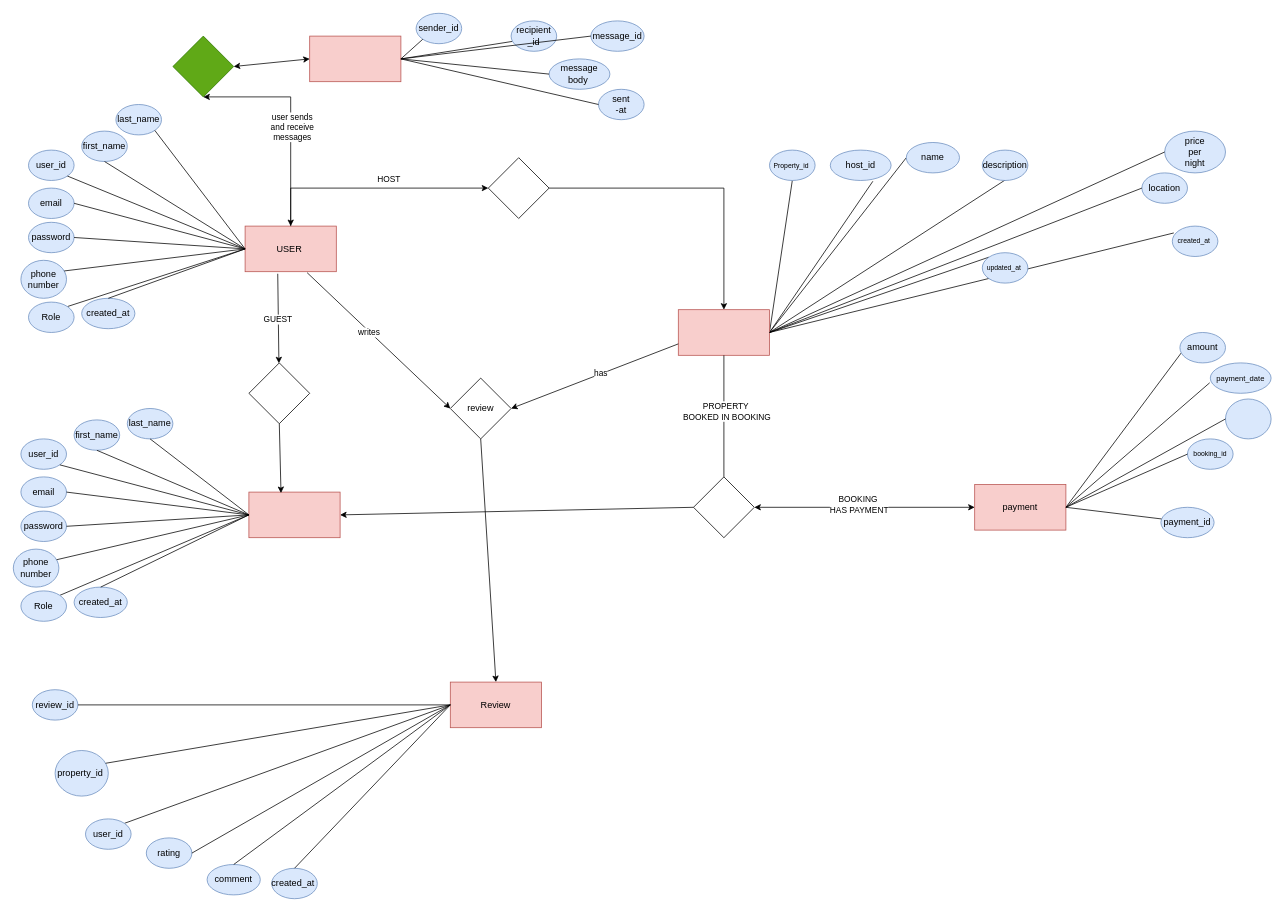
The diagram is 1284 pixels wide and 912 high, and some of its shapes have lost their labels. The centre of each missing label's shape, as x and y in pixels:
"BOOKED" goes at (x=723, y=507).
"Booking" goes at (x=294, y=514).
"BOOKS" goes at (x=279, y=393).
"message" goes at (x=355, y=58).
"OWNS" goes at (x=518, y=187).
"payment method" goes at (x=1248, y=418).
"Property" goes at (x=724, y=332).
"send/ receive" goes at (x=203, y=66).
